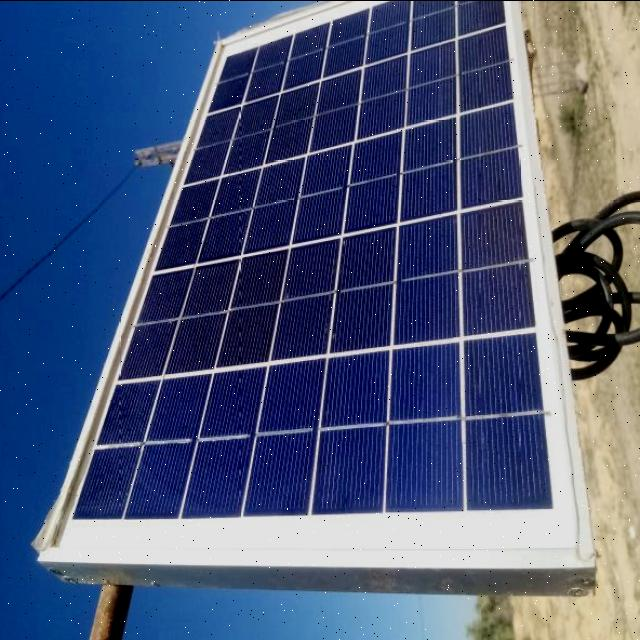Normal Solar Panel: (39, 0, 595, 574)
